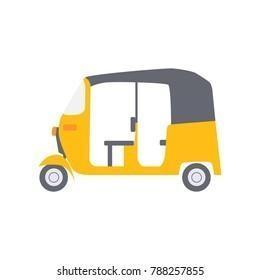keke: (35, 69, 222, 209)
